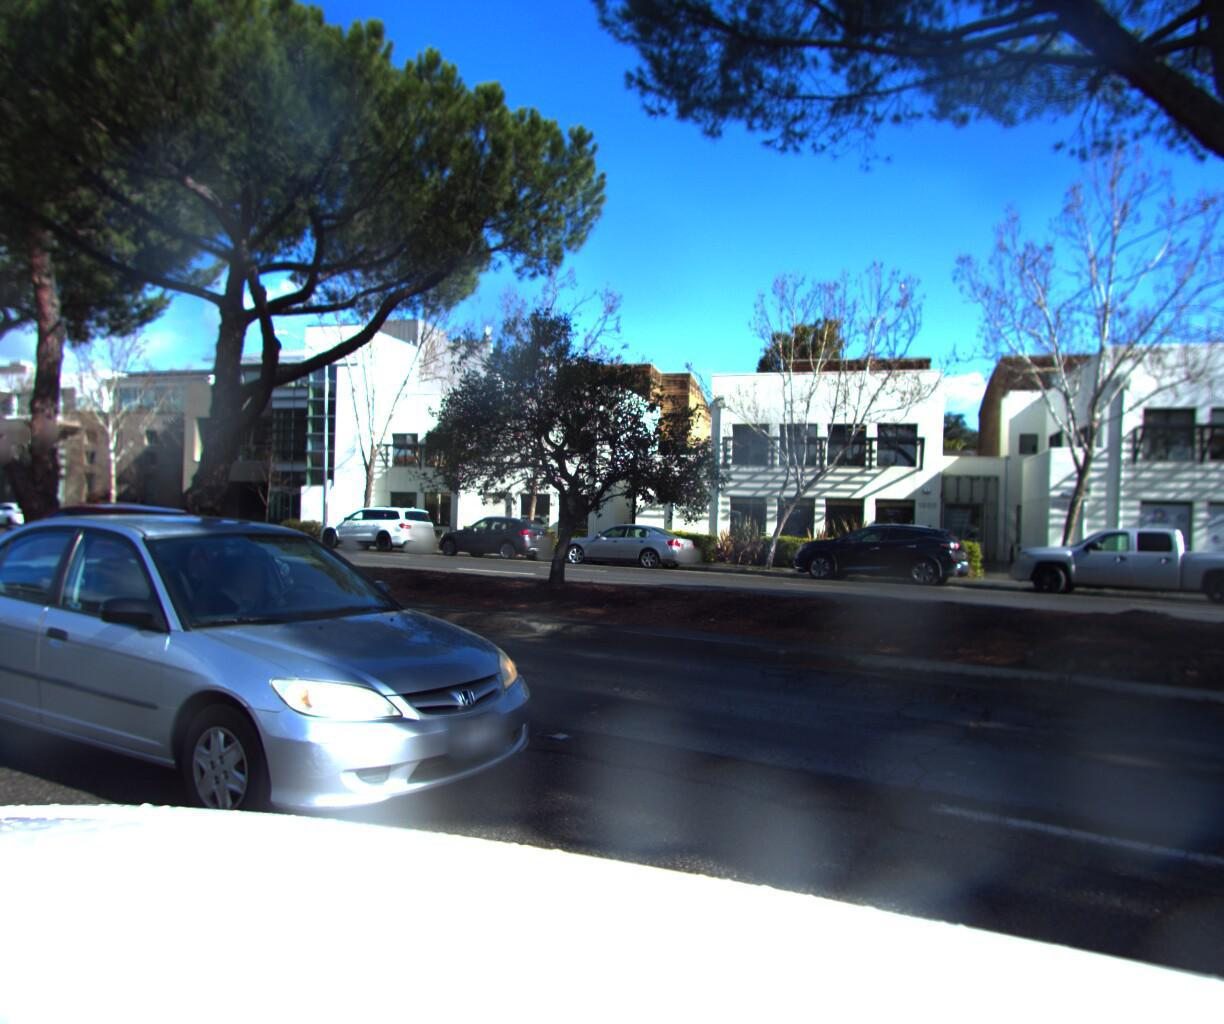car: (0, 505, 584, 908), (0, 506, 328, 647), (1002, 522, 1224, 611), (779, 519, 979, 596), (549, 522, 705, 578), (426, 515, 558, 568), (307, 505, 444, 557), (0, 506, 55, 536)
